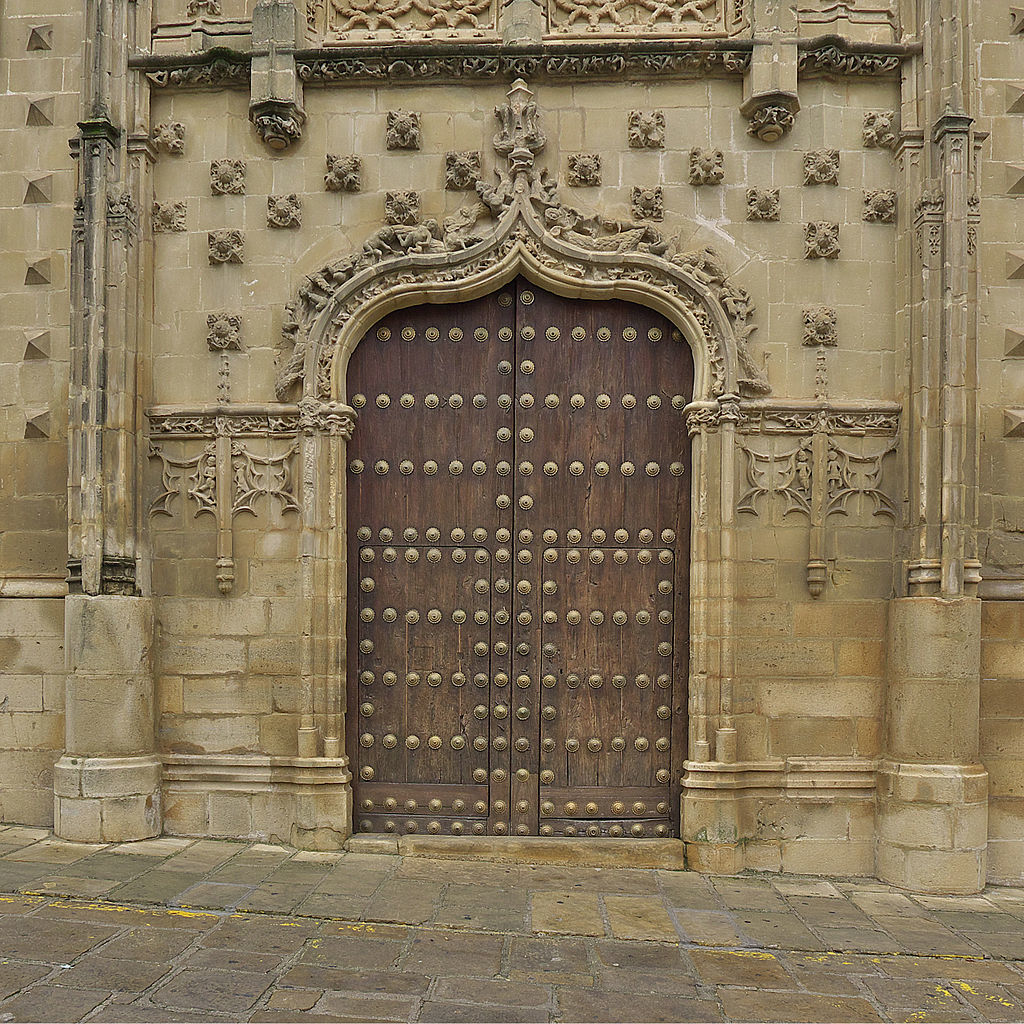arco-conopial: (301, 189, 726, 359)
